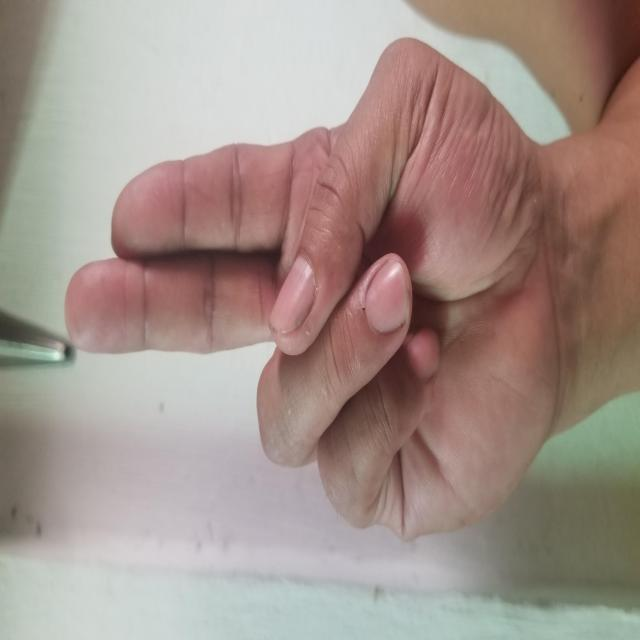U: (101, 63, 603, 549)
